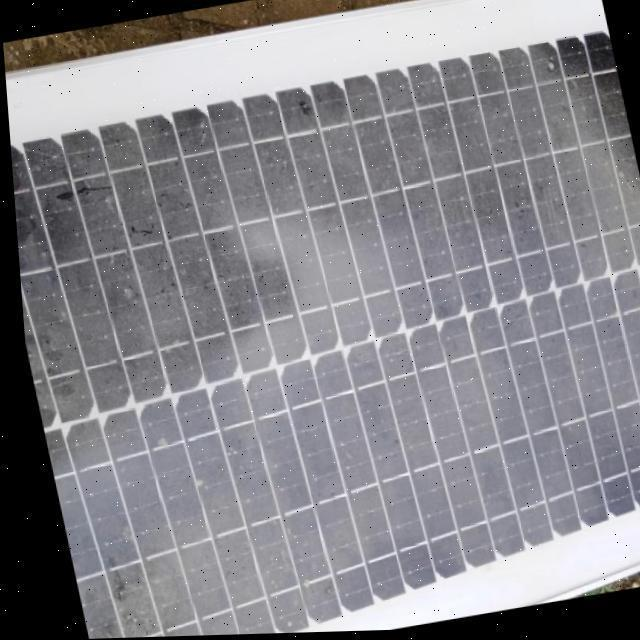Surface Contaminant: (6, 0, 640, 591)
